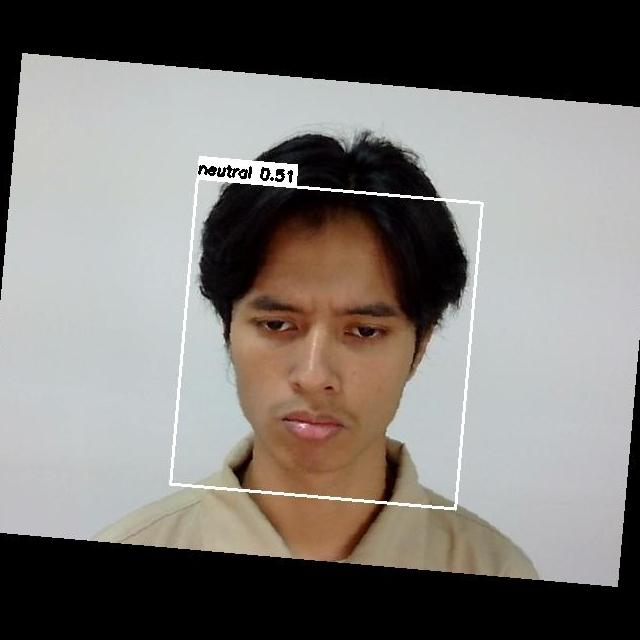Sad: (222, 269, 432, 464)
